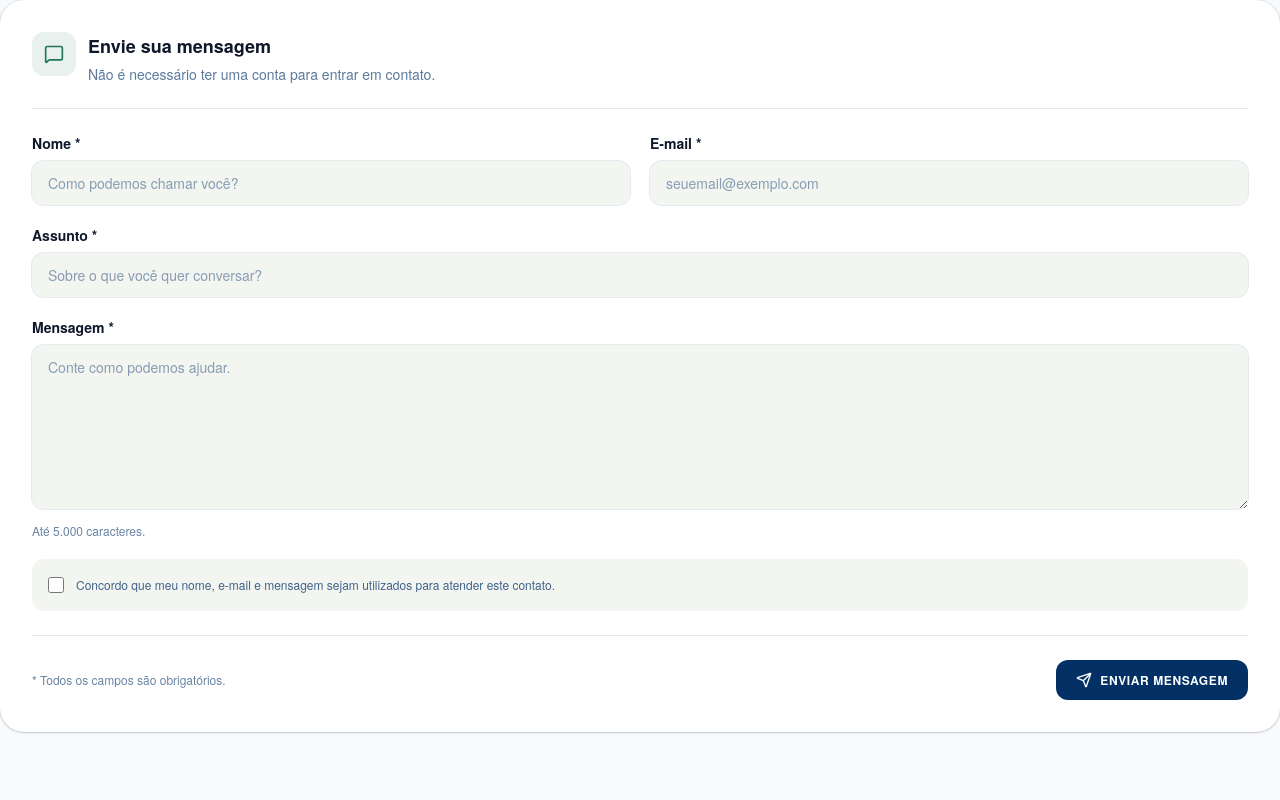
Scenario: informa o limite de tentativas sem apagar a mensagem
Type " Maria Silva " into the field labelled "Nome *".
click(331, 183); type(" Maria Silva ")  # box left=32, top=161, right=630, bottom=205
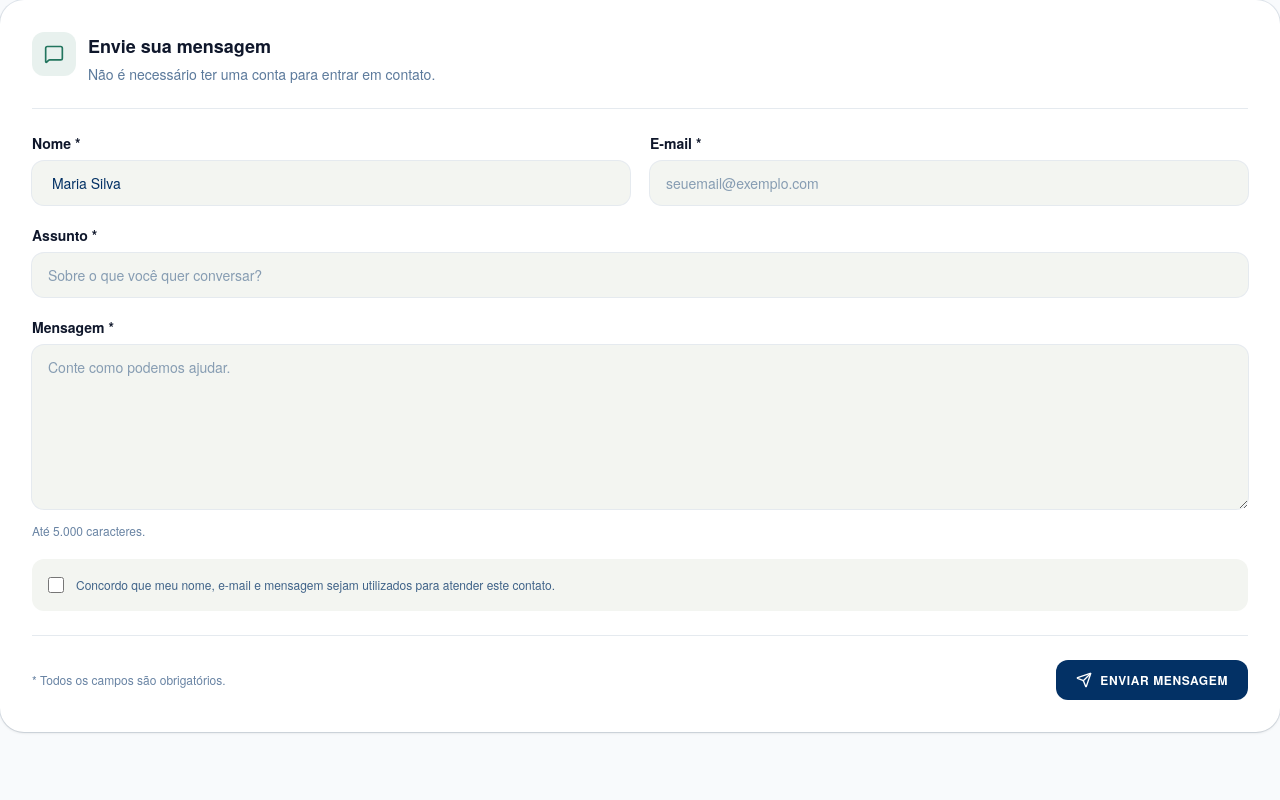
Type " Maria@Example.com " into the field labelled "E-mail *".
click(949, 183); type(" Maria@Example.com ")  # box left=650, top=161, right=1248, bottom=205
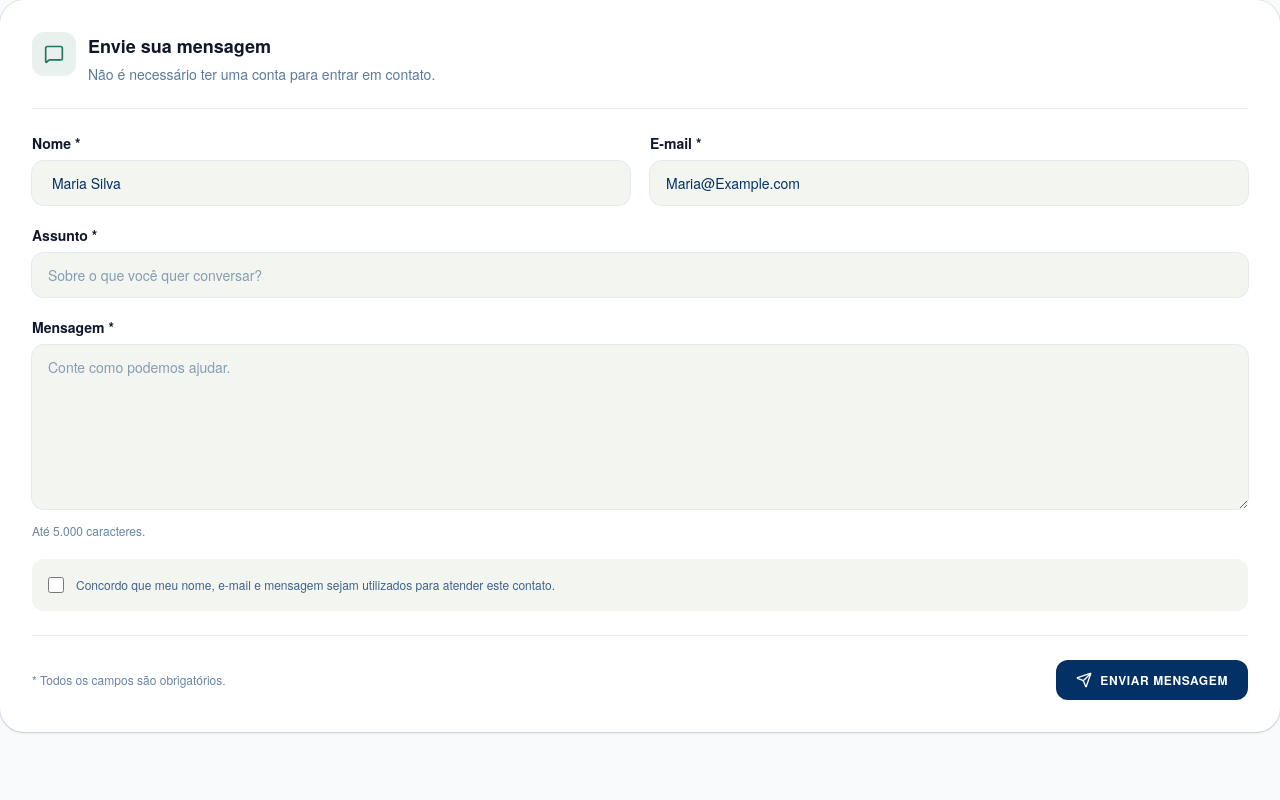
Type " Visita ao Parque " into the field labelled "Assunto *".
click(640, 275); type(" Visita ao Parque ")  # box left=32, top=253, right=1248, bottom=297
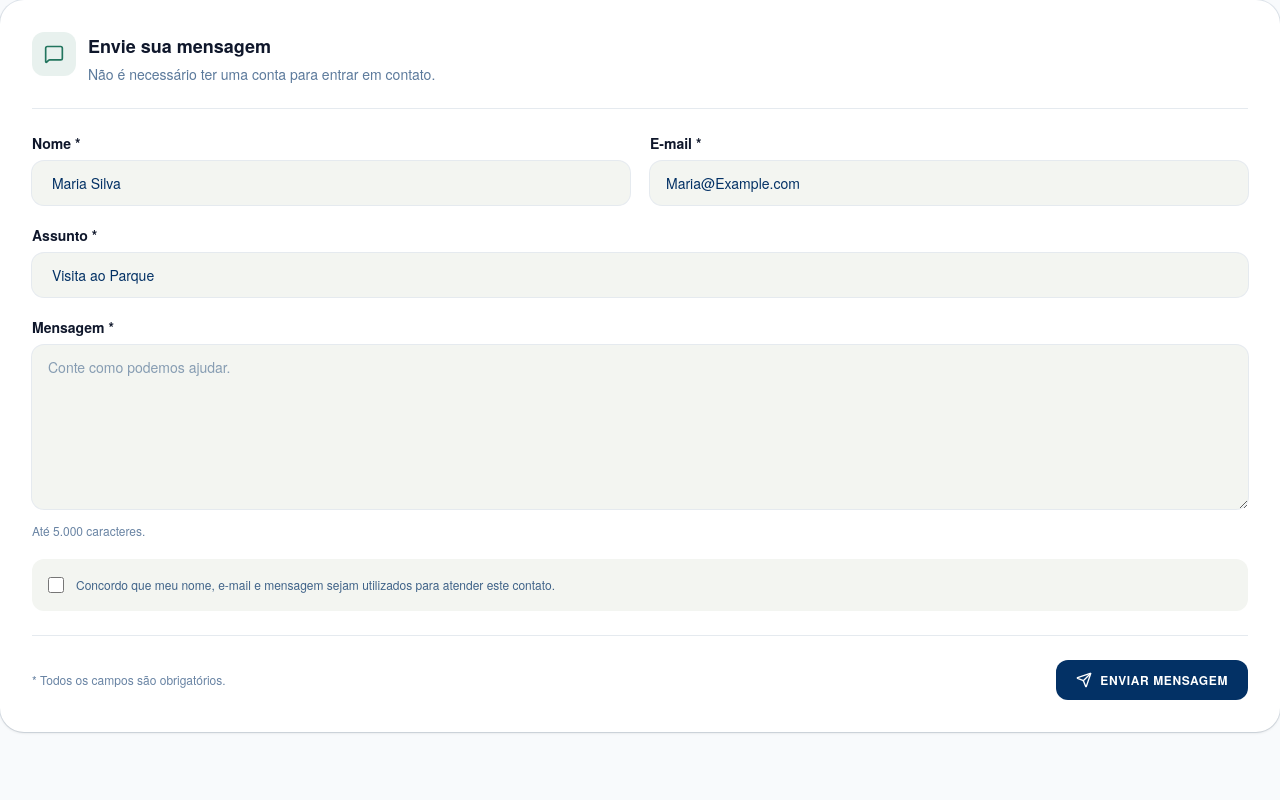
Type " Gostaria de conhecer os espaços. " into the text box labelled "Mensagem *".
click(640, 427); type(" Gostaria de conhecer os espaços. ")  # box left=32, top=345, right=1248, bottom=509
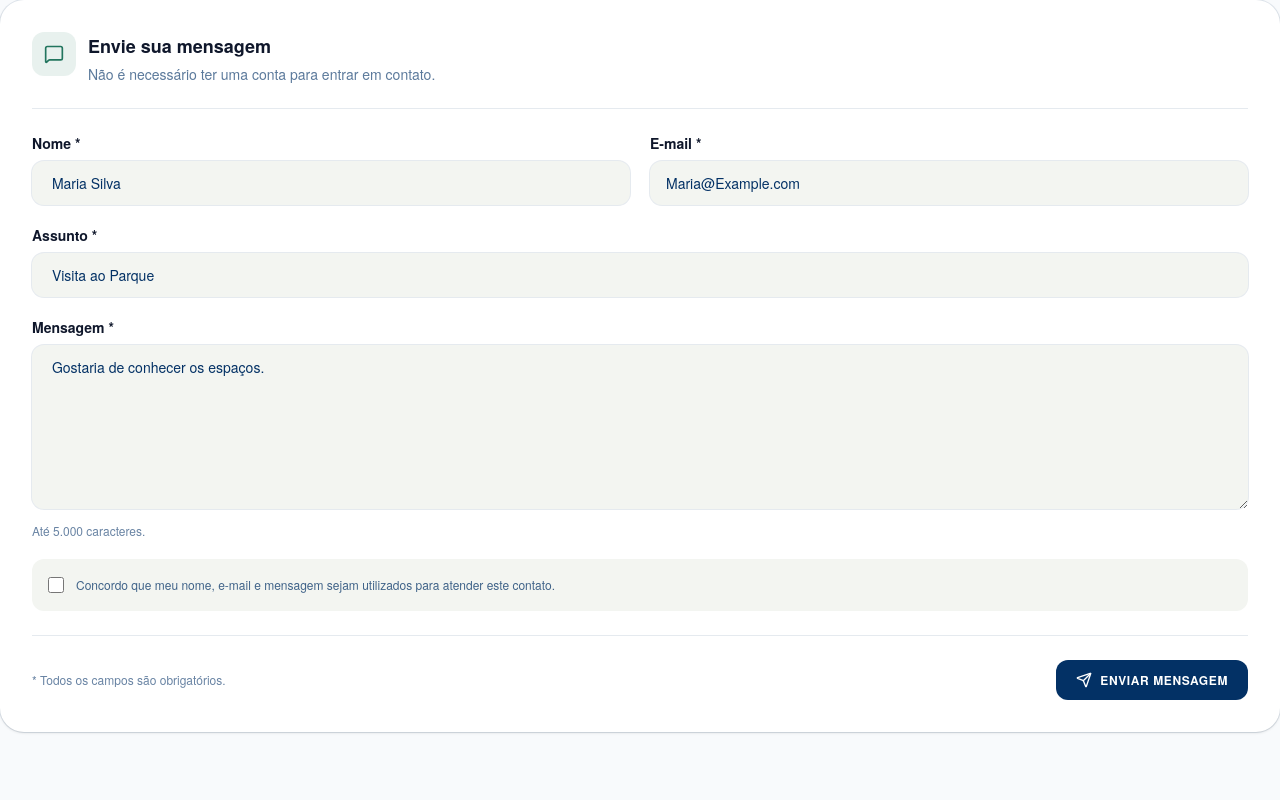
Click the checkbox.
click(56, 585)  # box left=48, top=577, right=64, bottom=593
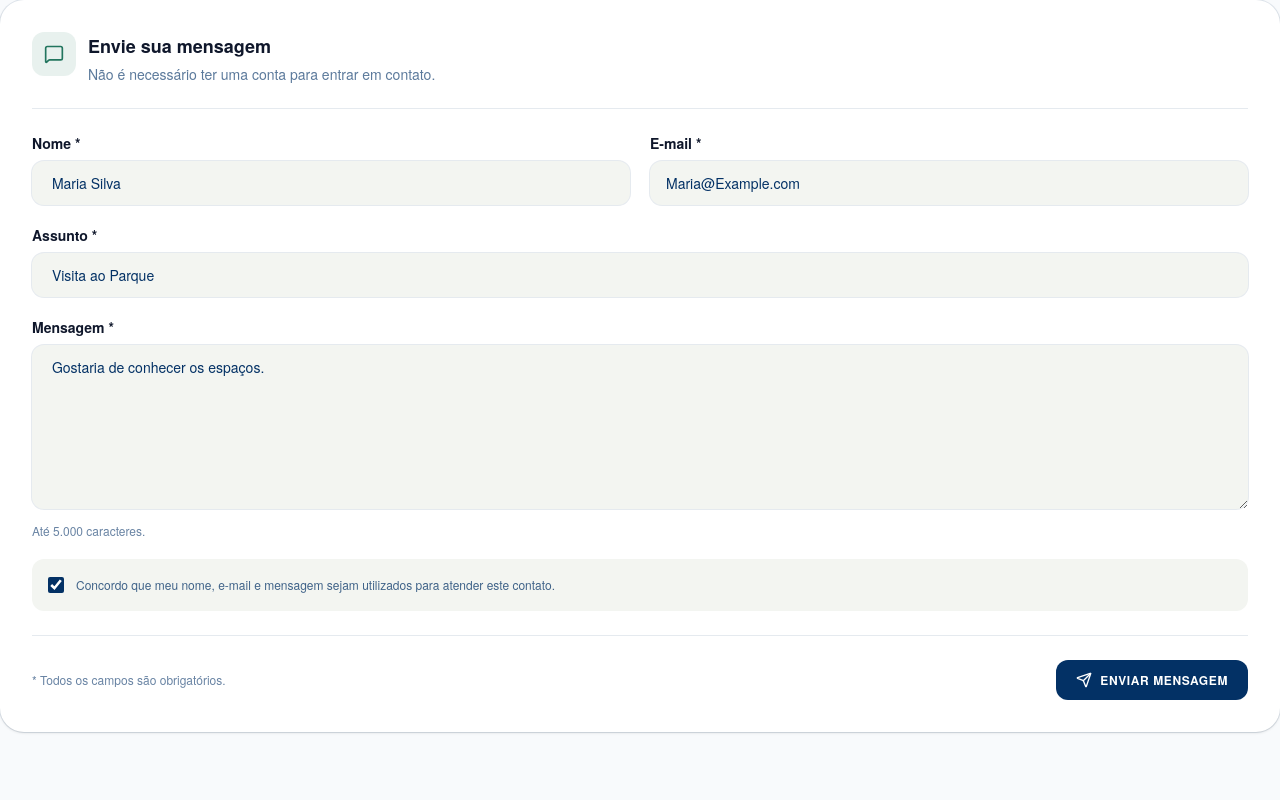
Click the button "Enviar mensagem".
click(1152, 680)  # box left=1056, top=660, right=1248, bottom=700
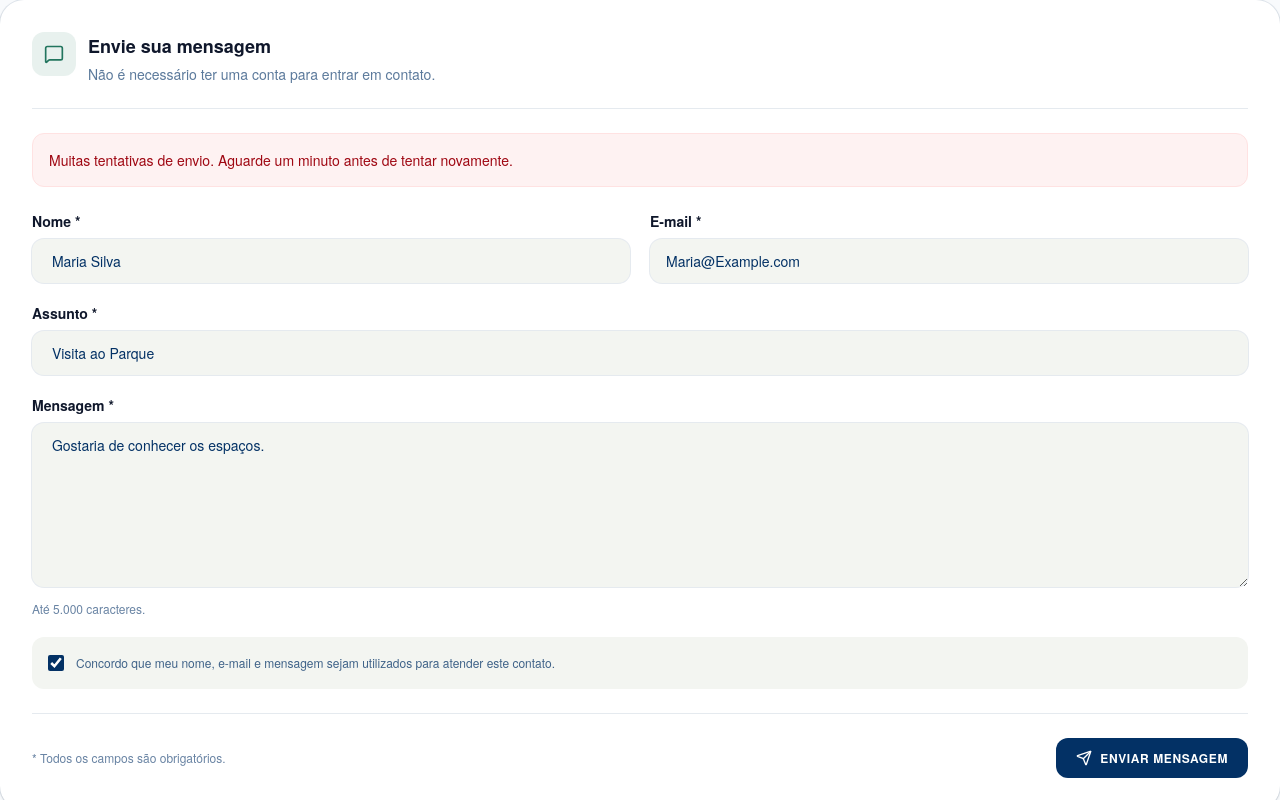
expect the message shows "Aguarde um minuto": met, box left=49, top=150, right=513, bottom=170
